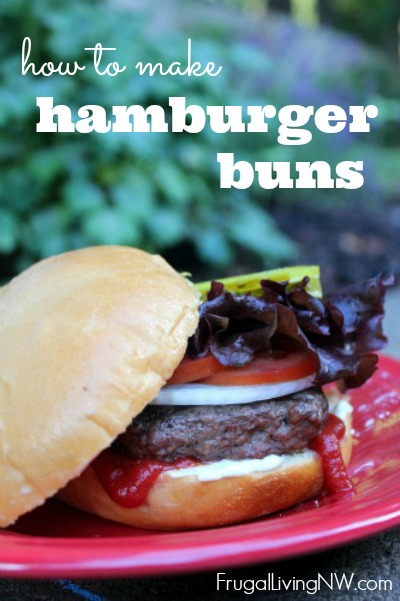hamburger_buns: (1, 231, 389, 539)
